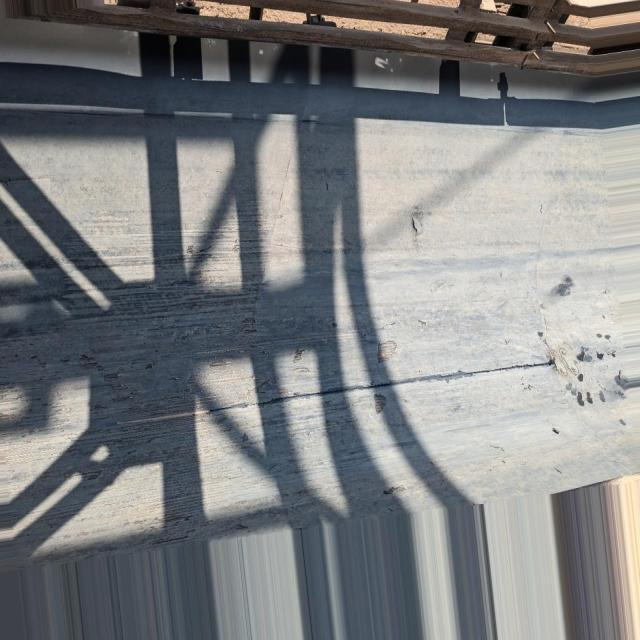Impact Damage: (366, 388, 392, 416), (374, 339, 398, 366)
Tear: (143, 354, 557, 420), (321, 177, 333, 195), (411, 215, 423, 232)
